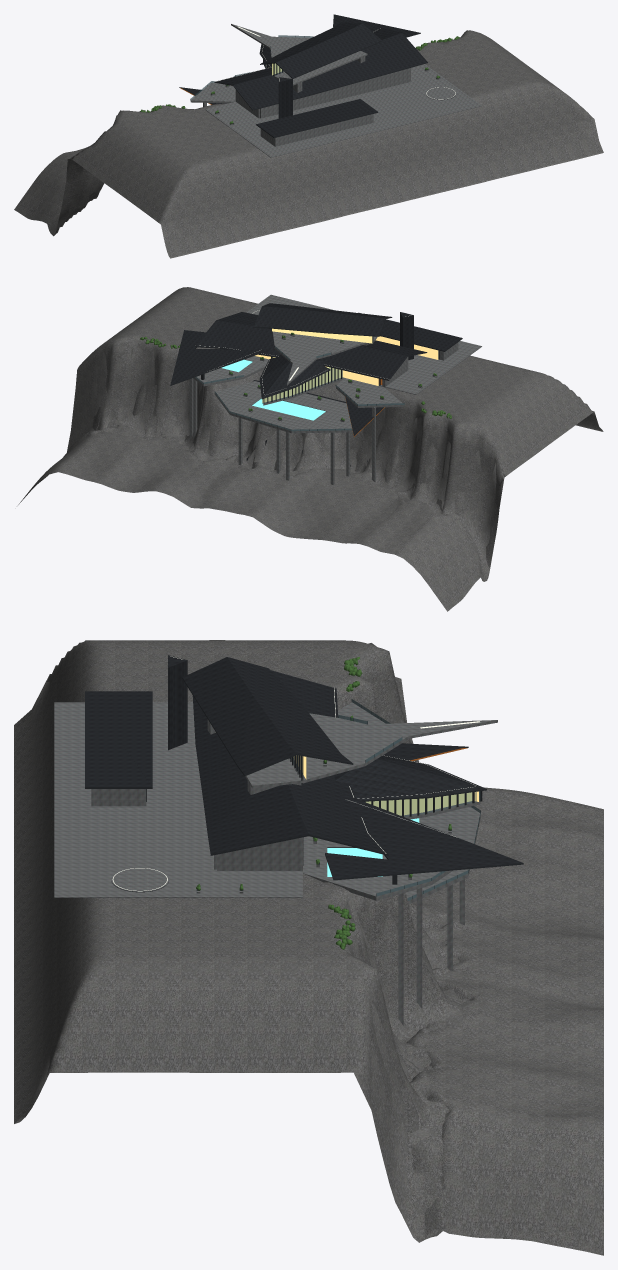
The model's file is ariel-home.glb.
3 views of the same model, one above another, from view 1: azimuth 30°, elevation 25°; view 2: azimuth 150°, elevation 25°; view 3: azimuth 270°, elevation 25° (orthographic). The views are drawn at different scales.
Parts seen in each view (by area): view 1: Mansion_LOD0_mesh, Mansion_LOD1_mesh; view 2: Mansion_LOD0_mesh, Mansion_LOD1_mesh; view 3: Mansion_LOD0_mesh, Mansion_LOD1_mesh.
Boxes of the visible parts, x1,y1,x2,y2 form: Mansion_LOD0_mesh: (14,14,594,257); Mansion_LOD1_mesh: (19,32,603,258); Mansion_LOD0_mesh: (23,287,602,611); Mansion_LOD1_mesh: (18,289,603,604); Mansion_LOD0_mesh: (14,640,603,1255); Mansion_LOD1_mesh: (14,643,603,1247).
Bounding box in the file's own units: 400 × 163 × 250.
Materials: 10 (6 with a texture image).
